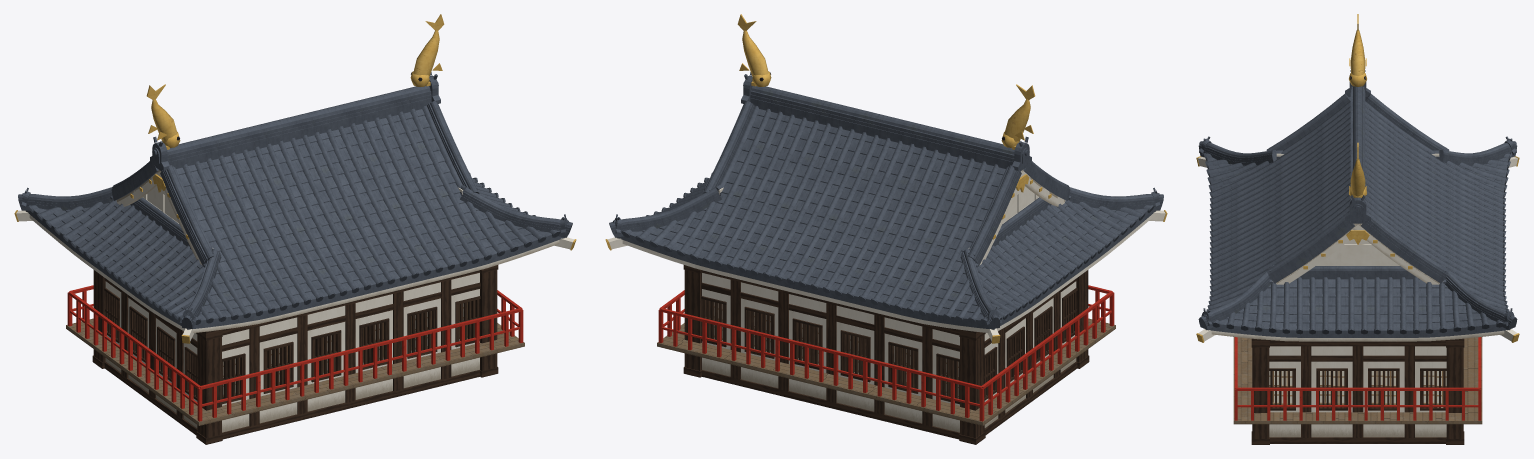
The model's file is HO_Castle_Keep_Tier5.fbx.
The picture shows the model from 3 angles, left to right: view 1: azimuth 30°, elevation 25°; view 2: azimuth 150°, elevation 25°; view 3: azimuth 270°, elevation 25°; orthographic projection. The views are drawn at different scales.
Visible parts, largest first — view 1: HO_Castle_Keep_Tier5_RoofTiles, HO_Castle_Keep_Tier5_Walls__Timber_Dark, HO_Castle_Keep_Tier5_Walls__Plaster_White, HO_Castle_Keep_Tier5_Balcony__Red_Lacquer, HO_Castle_Keep_Tier5_Balcony__Wood_Planks, HO_Castle_Keep_Tier5_RoofFrame__Plaster_White, HO_Castle_Keep_Tier5_Gable__Gold_Leaf; view 2: HO_Castle_Keep_Tier5_RoofTiles, HO_Castle_Keep_Tier5_Walls__Timber_Dark, HO_Castle_Keep_Tier5_Walls__Plaster_White, HO_Castle_Keep_Tier5_Balcony__Red_Lacquer, HO_Castle_Keep_Tier5_Balcony__Wood_Planks, HO_Castle_Keep_Tier5_RoofFrame__Plaster_White, HO_Castle_Keep_Tier5_Gable__Gold_Leaf; view 3: HO_Castle_Keep_Tier5_RoofTiles, HO_Castle_Keep_Tier5_Walls__Timber_Dark, HO_Castle_Keep_Tier5_Walls__Plaster_White, HO_Castle_Keep_Tier5_Balcony__Wood_Planks, HO_Castle_Keep_Tier5_RoofFrame__Plaster_White, HO_Castle_Keep_Tier5_Balcony__Red_Lacquer, HO_Castle_Keep_Tier5_Walls__Shoji_Paper, HO_Castle_Keep_Tier5_Gable__Gold_Leaf, HO_Castle_Keep_Tier5_Walls__Timber_Light, HO_Castle_Keep_Tier5_RoofFrame__Gold_Leaf.
Part boxes in pixels (x1,y1,x2,y2): HO_Castle_Keep_Tier5_RoofTiles: (18, 72, 572, 329); HO_Castle_Keep_Tier5_Walls__Timber_Dark: (92, 265, 498, 444); HO_Castle_Keep_Tier5_Walls__Plaster_White: (105, 273, 479, 432); HO_Castle_Keep_Tier5_Balcony__Red_Lacquer: (67, 285, 523, 421); HO_Castle_Keep_Tier5_Balcony__Wood_Planks: (66, 318, 524, 425); HO_Castle_Keep_Tier5_RoofFrame__Plaster_White: (16, 169, 574, 341); HO_Castle_Keep_Tier5_Gable__Gold_Leaf: (146, 14, 444, 149); HO_Castle_Keep_Tier5_RoofTiles: (609, 72, 1163, 329); HO_Castle_Keep_Tier5_Walls__Timber_Dark: (683, 265, 1089, 444); HO_Castle_Keep_Tier5_Walls__Plaster_White: (702, 273, 1076, 432); HO_Castle_Keep_Tier5_Balcony__Red_Lacquer: (658, 285, 1114, 421); HO_Castle_Keep_Tier5_Balcony__Wood_Planks: (657, 318, 1115, 425); HO_Castle_Keep_Tier5_RoofFrame__Plaster_White: (607, 169, 1165, 341); HO_Castle_Keep_Tier5_Gable__Gold_Leaf: (737, 14, 1035, 149); HO_Castle_Keep_Tier5_RoofTiles: (1198, 70, 1517, 337); HO_Castle_Keep_Tier5_Walls__Timber_Dark: (1251, 338, 1464, 444); HO_Castle_Keep_Tier5_Walls__Plaster_White: (1269, 346, 1446, 437); HO_Castle_Keep_Tier5_Balcony__Wood_Planks: (1233, 337, 1482, 424); HO_Castle_Keep_Tier5_RoofFrame__Plaster_White: (1198, 153, 1517, 341); HO_Castle_Keep_Tier5_Balcony__Red_Lacquer: (1234, 337, 1481, 420); HO_Castle_Keep_Tier5_Walls__Shoji_Paper: (1269, 371, 1446, 403); HO_Castle_Keep_Tier5_Gable__Gold_Leaf: (1349, 14, 1366, 197); HO_Castle_Keep_Tier5_Walls__Timber_Light: (1269, 371, 1446, 404); HO_Castle_Keep_Tier5_RoofFrame__Gold_Leaf: (1196, 156, 1519, 342).
Bounding box in the file's own units: 32.96 × 25.36 × 24.96.
